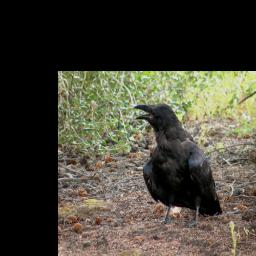Crow: (133, 102, 224, 230)
